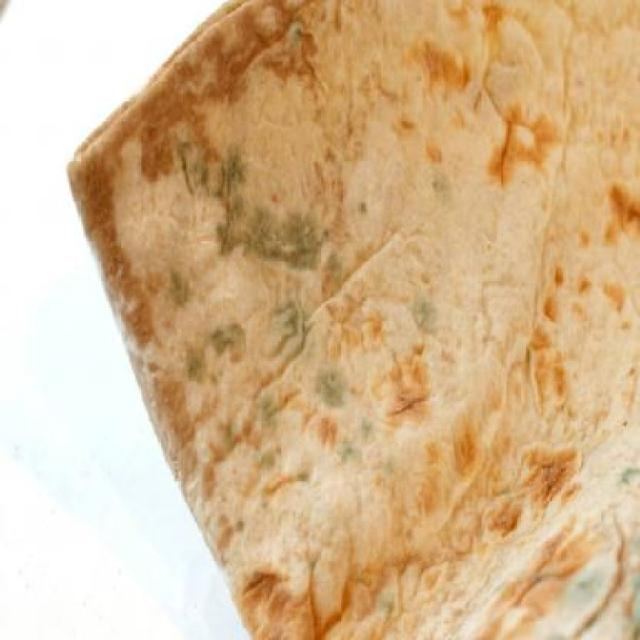mold_bread: (216, 199, 334, 270), (176, 133, 266, 201), (271, 293, 316, 363), (188, 325, 241, 382), (305, 368, 355, 411), (161, 262, 200, 307), (252, 386, 278, 431), (413, 288, 436, 330), (338, 442, 360, 465), (361, 415, 375, 437)
